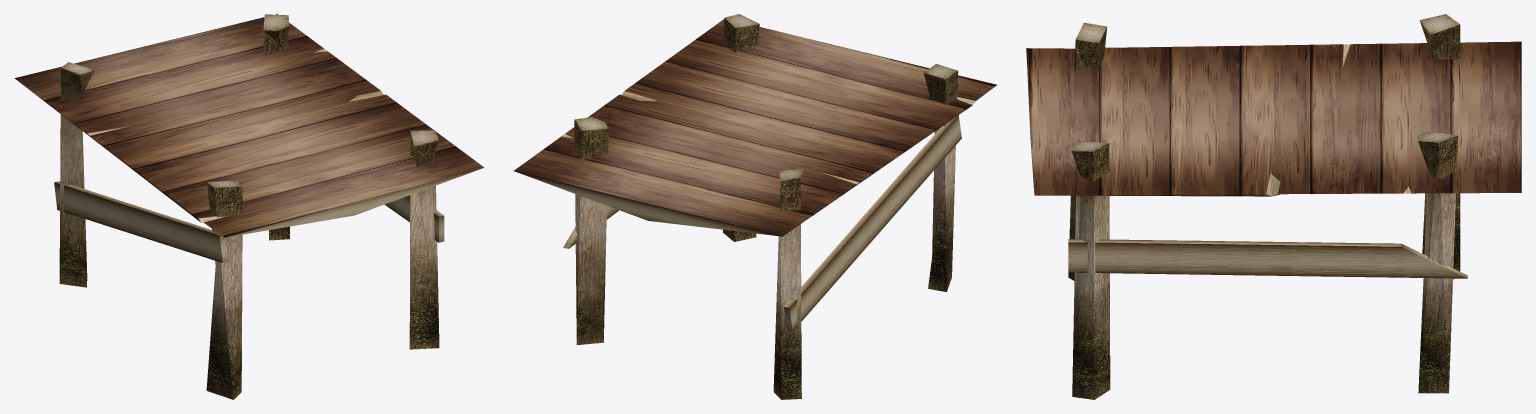
The model's file is p2_platform2_small_LOD1.fbx.
The picture shows the model from 3 angles, left to right: view 1: azimuth 30°, elevation 25°; view 2: azimuth 150°, elevation 25°; view 3: azimuth 270°, elevation 25°; orthographic projection. The views are drawn at different scales.
Visible parts, largest first — view 1: polymsh; view 2: polymsh; view 3: polymsh.
Boxes of the visible parts, x1,y1,x2,y2 form: polymsh: (14,14,483,399); polymsh: (514,14,996,399); polymsh: (1026,14,1521,399).
Bounding box in the file's own units: 100 × 79.08 × 138.
